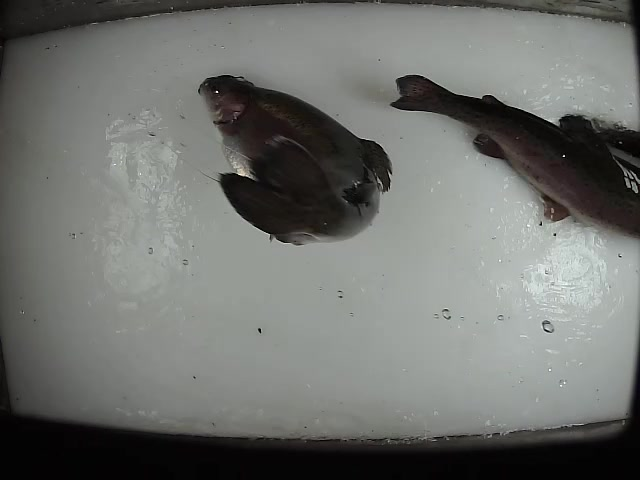fish: (388, 68, 640, 239), (194, 71, 396, 250)
